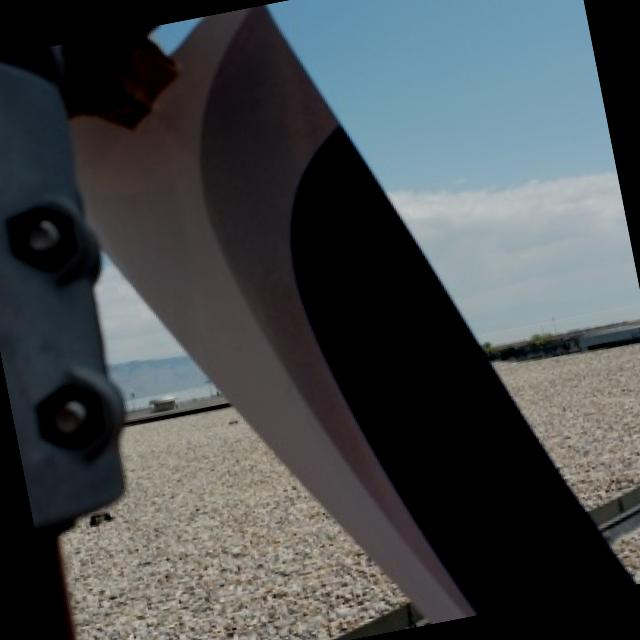healthy: (74, 5, 632, 621)
